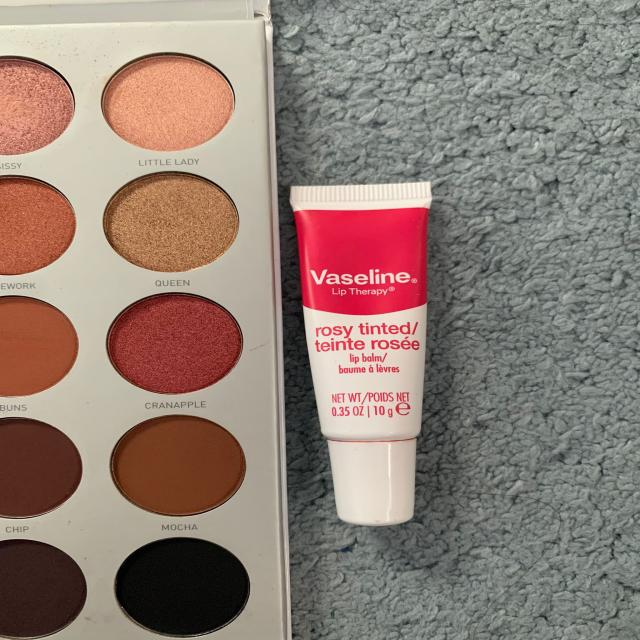eye shade: (0, 35, 259, 640)
lip balm: (276, 163, 475, 537)
